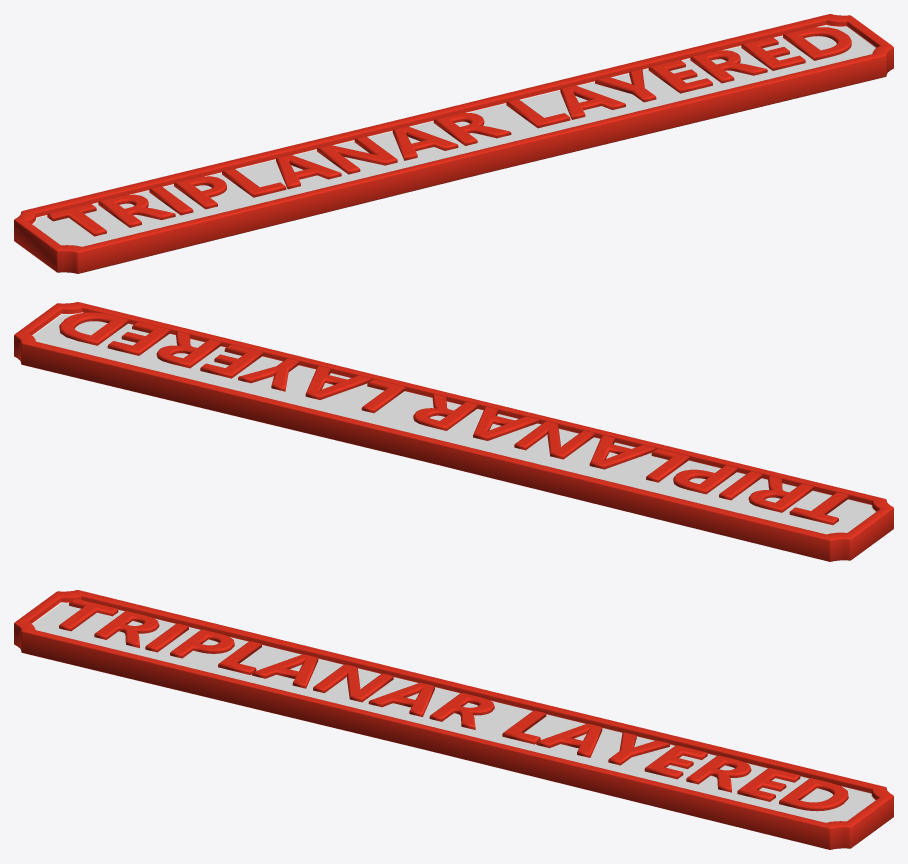
File: SM_NamePlate_05.fbx
The picture shows the model from 3 angles, top to bottom: view 1: azimuth 30°, elevation 25°; view 2: azimuth 150°, elevation 25°; view 3: azimuth 330°, elevation 25°; orthographic projection.
Visible parts, largest first — view 1: SM_NamePlate, TriplanarLayered; view 2: SM_NamePlate, TriplanarLayered; view 3: SM_NamePlate, TriplanarLayered.
Boxes of the visible parts, left/top/right/bottom form: SM_NamePlate: left=14, top=14, right=893, bottom=273; TriplanarLayered: left=47, top=27, right=851, bottom=236; SM_NamePlate: left=14, top=302, right=893, bottom=561; TriplanarLayered: left=59, top=312, right=848, bottom=525; SM_NamePlate: left=14, top=590, right=893, bottom=849; TriplanarLayered: left=59, top=598, right=848, bottom=811.
Size of the model in its own units: 522 by 16.5 by 61.3.
